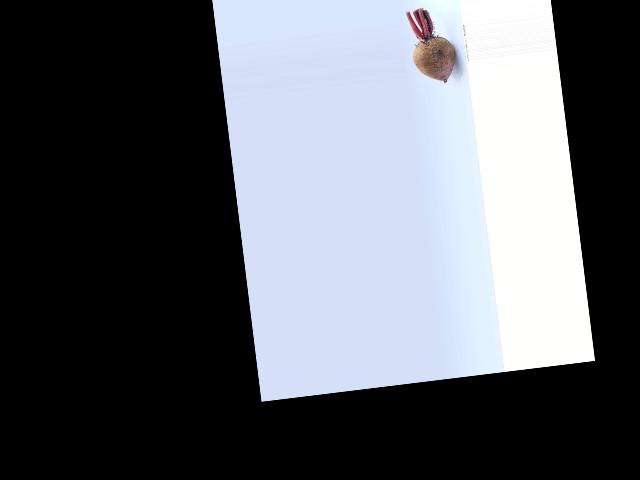beet: (406, 6, 458, 85)
